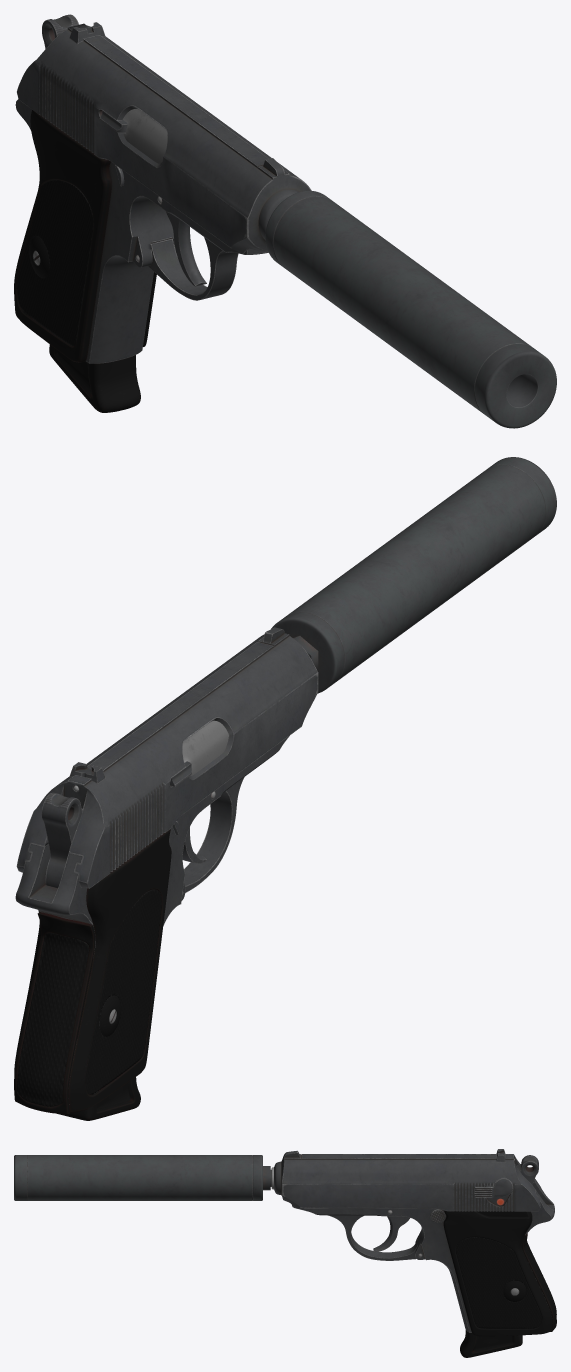
File: wepon.glb
3 views of the same model, one above another, from view 1: azimuth 30°, elevation 25°; view 2: azimuth 150°, elevation 25°; view 3: azimuth 270°, elevation 25° (orthographic). The views are drawn at different scales.
Parts seen in each view (by area): view 1: Silencer_00_low, PPK_20_low_PPK_0, PPK_00_low, PPK_26_low, PPK_01_low, PPK_04_low_PPK_0, PPK_10_low, PPK_12_low, PPK_09_low, PPK_14_low_PPK_0, PPK_08_low; view 2: PPK_20_low_PPK_0, Silencer_00_low, PPK_01_low, PPK_26_low, PPK_24_low, PPK_00_low, PPK_03_low, PPK_10_low, PPK_14_low_PPK_0, PPK_12_low, PPK_04_low_PPK_0; view 3: PPK_20_low_PPK_0, Silencer_00_low, PPK_25_low_PPK_0, PPK_02_low, PPK_00_low, PPK_04_low_PPK_0, PPK_10_low, PPK_22_low_PPK_0, PPK_24_low, PPK_09_low, PPK_14_low_PPK_0, PPK_05_low (+1 smaller).
Boxes of the visible parts, x1,y1,x2,y2 form: Silencer_00_low: (265,190,556,428); PPK_20_low_PPK_0: (17,23,311,253); PPK_00_low: (15,99,268,363); PPK_26_low: (16,180,93,346); PPK_01_low: (14,110,111,362); PPK_04_low_PPK_0: (49,344,140,412); PPK_10_low: (148,237,238,300); PPK_12_low: (123,109,167,163); PPK_09_low: (165,211,206,286); PPK_14_low_PPK_0: (42,14,79,48); PPK_08_low: (29,236,49,278); PPK_20_low_PPK_0: (16,627,318,888); Silencer_00_low: (271,457,556,693); PPK_01_low: (68,829,171,1112); PPK_26_low: (85,889,161,1094); PPK_24_low: (17,932,89,1106); PPK_00_low: (15,735,289,1093); PPK_03_low: (14,912,95,1114); PPK_10_low: (184,777,244,892); PPK_14_low_PPK_0: (41,792,82,887); PPK_12_low: (182,720,228,775); PPK_04_low_PPK_0: (57,1077,140,1120); PPK_20_low_PPK_0: (274,1150,540,1211); Silencer_00_low: (14,1155,271,1200); PPK_25_low_PPK_0: (456,1237,541,1328); PPK_02_low: (443,1210,552,1336); PPK_00_low: (292,1179,554,1332); PPK_04_low_PPK_0: (460,1330,522,1357); PPK_10_low: (329,1215,417,1260); PPK_22_low_PPK_0: (474,1178,512,1197); PPK_24_low: (524,1240,556,1324); PPK_09_low: (373,1216,410,1251); PPK_14_low_PPK_0: (516,1155,538,1184); PPK_05_low: (503,1280,526,1301).
Bounding box in the file's own units: 0.0279 × 0.1222 × 0.2986.
2 materials, 2 textured.
